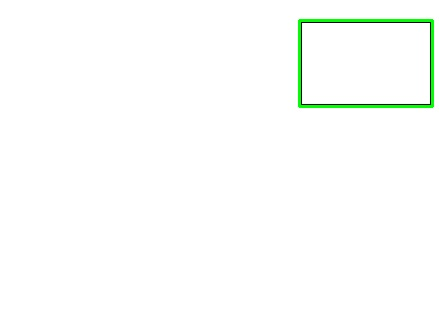line_segment: (298, 19, 433, 108)
